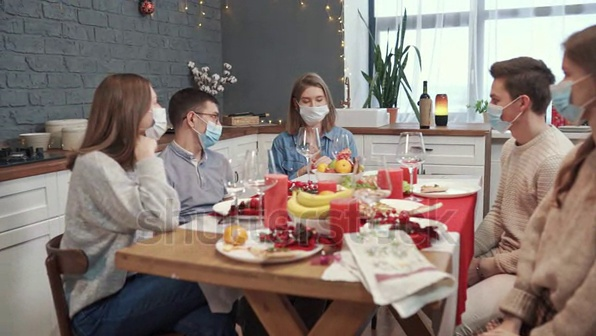Mask: (477, 64, 555, 143), (97, 68, 169, 151), (549, 28, 596, 133), (167, 91, 229, 154), (285, 75, 336, 134)
